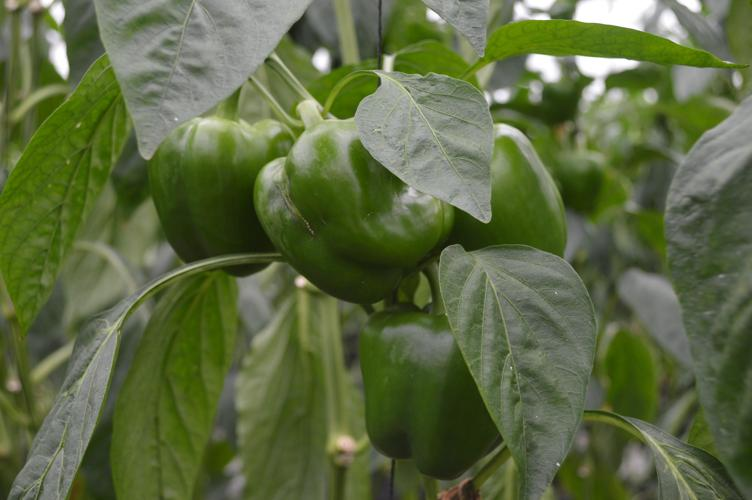BellPepper: (262, 123, 453, 294), (351, 307, 511, 494), (141, 119, 296, 280), (433, 126, 584, 263)
